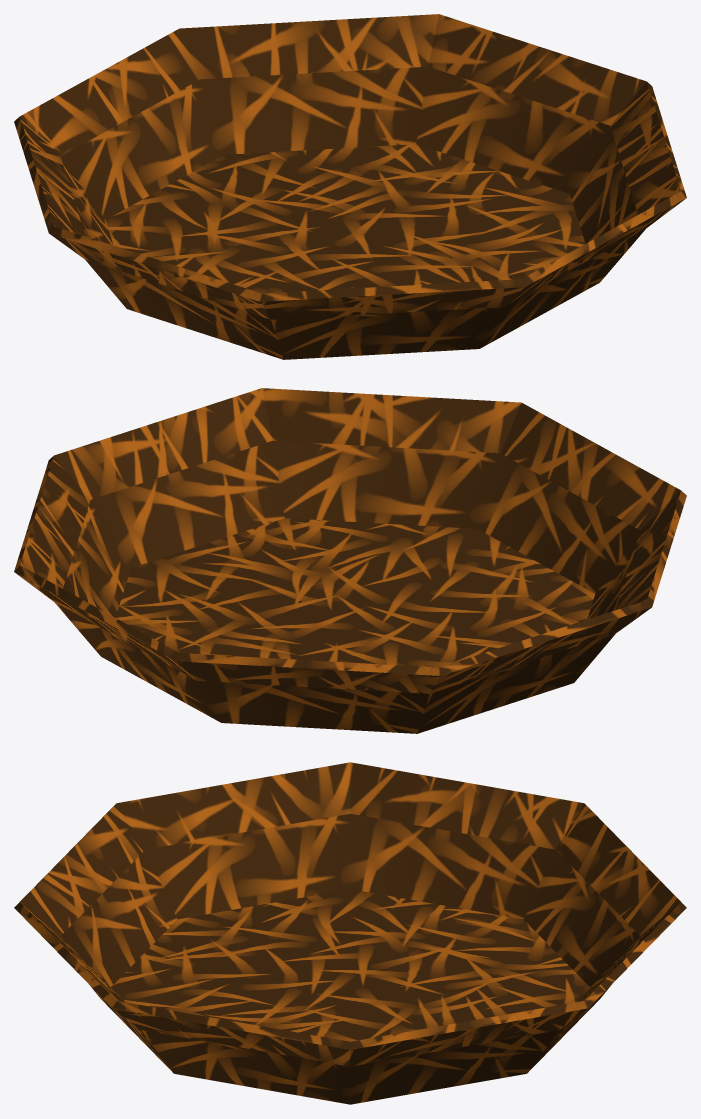
The model's file is Model_Nest.FBX.
3 renders of one model, top to bottom at view 1: azimuth 30°, elevation 25°; view 2: azimuth 150°, elevation 25°; view 3: azimuth 270°, elevation 25°, orthographic. The views are drawn at different scales.
Visible parts, largest first — view 1: Cylinder003; view 2: Cylinder003; view 3: Cylinder003.
Part boxes in pixels (x1,y1,x2,y2): Cylinder003: [14, 14, 686, 359]; Cylinder003: [14, 388, 686, 733]; Cylinder003: [14, 762, 686, 1104].
Size of the model in its own units: 77.95 by 12.43 by 77.95.
